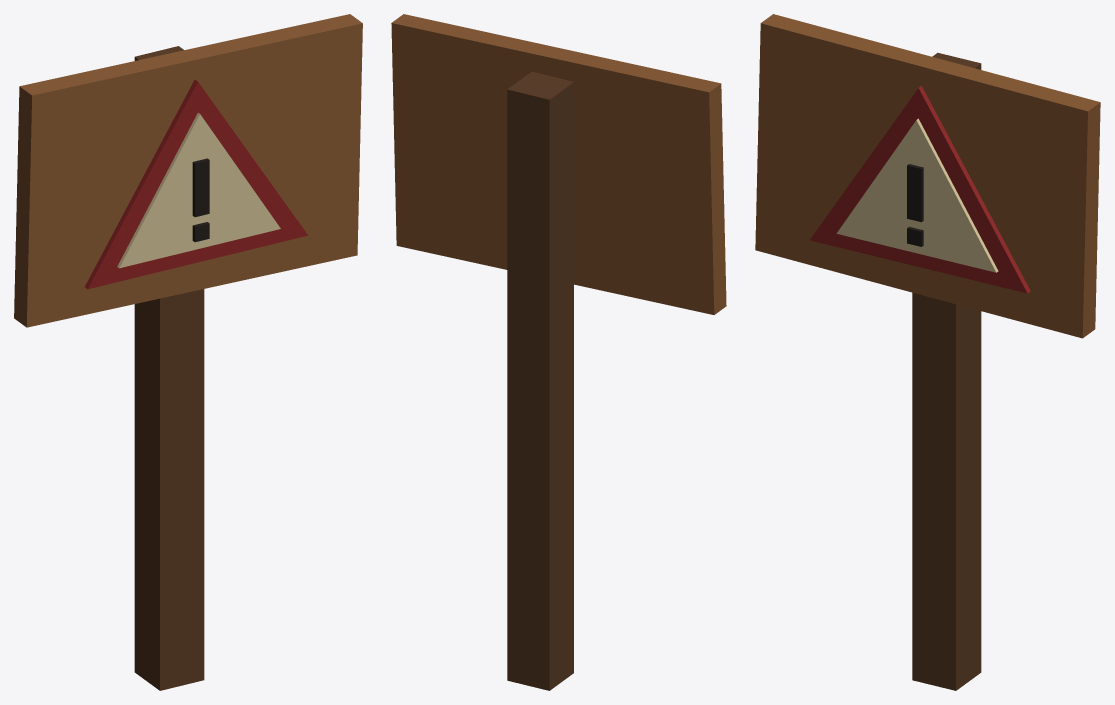
File: mine_sign_danger.glb
The picture shows the model from 3 angles, left to right: view 1: azimuth 30°, elevation 25°; view 2: azimuth 150°, elevation 25°; view 3: azimuth 330°, elevation 25°; orthographic projection. The views are drawn at different scales.
Parts seen in each view (by area): view 1: mine_sign_danger; view 2: mine_sign_danger; view 3: mine_sign_danger.
Part boxes in pixels (left/top/right/bottom): mine_sign_danger: left=14, top=14, right=362, bottom=690; mine_sign_danger: left=391, top=14, right=726, bottom=690; mine_sign_danger: left=755, top=14, right=1100, bottom=690.
Bounding box in the file's own units: 0.9144 × 1.66 × 0.215.
